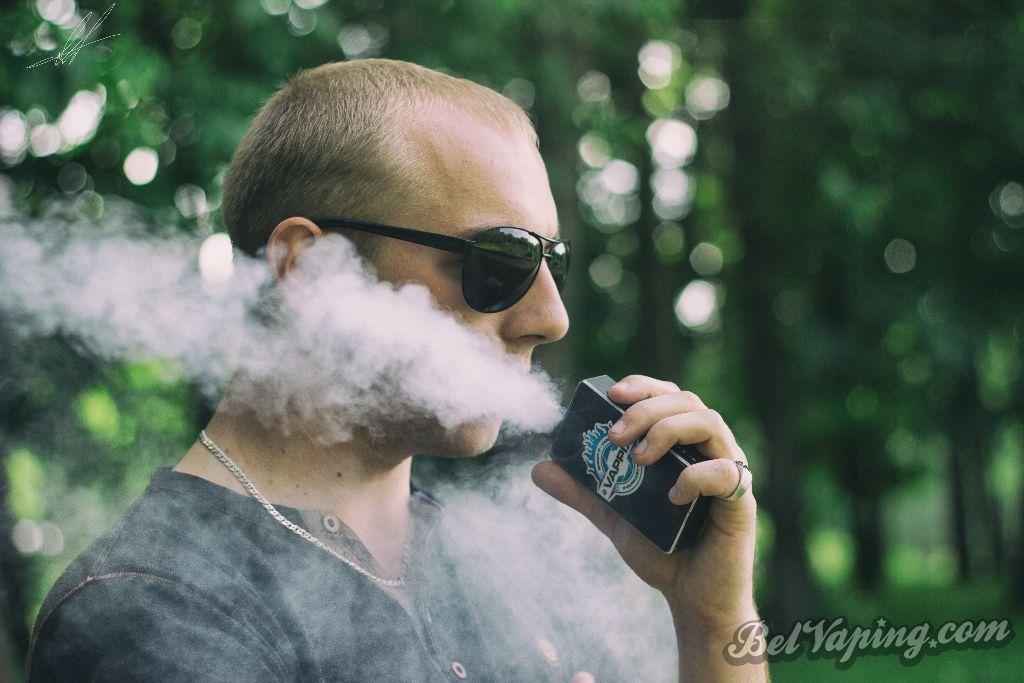Vape: (541, 374, 715, 556)
